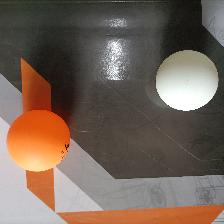WhiteBall: (155, 49, 219, 110)
YellowBall: (6, 109, 71, 172)
